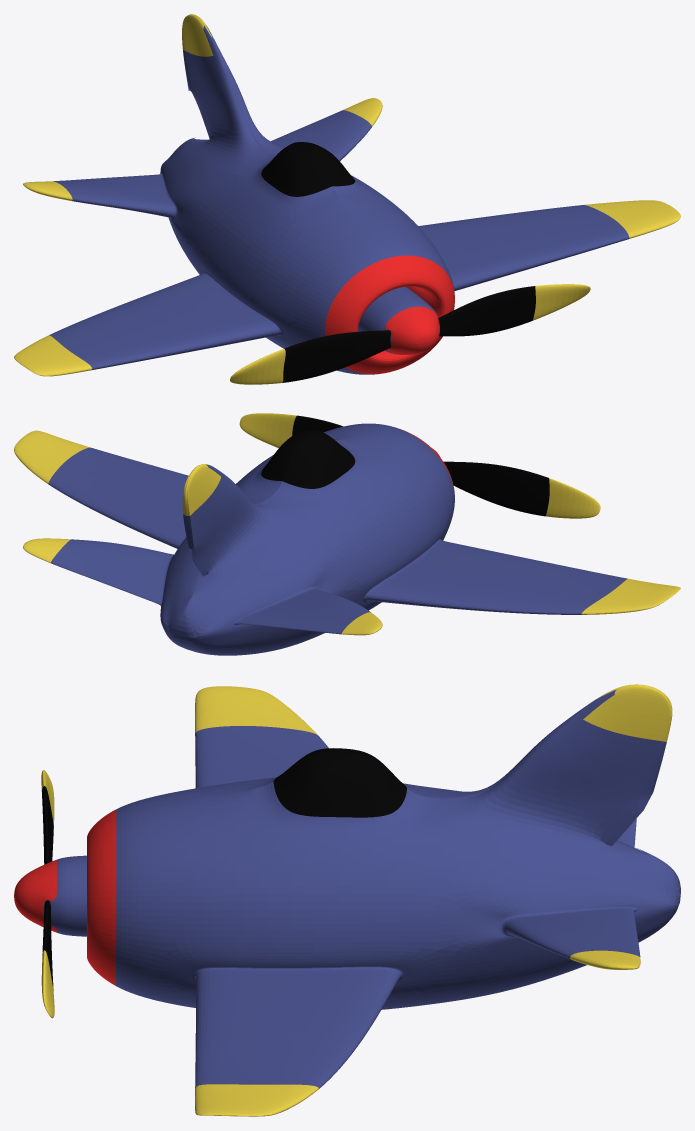
The picture shows the model from 3 angles, top to bottom: view 1: azimuth 30°, elevation 25°; view 2: azimuth 150°, elevation 25°; view 3: azimuth 270°, elevation 25°; orthographic projection. The views are drawn at different scales.
Parts seen in each view (by area): view 1: Cylinder, Cylinder.001; view 2: Cylinder, Cylinder.001; view 3: Cylinder, Cylinder.001.
Part boxes in pixels (left/top/right/bottom): Cylinder: left=14, top=14, right=680, bottom=376; Cylinder.001: left=230, top=284, right=590, bottom=384; Cylinder: left=14, top=423, right=680, bottom=655; Cylinder.001: left=239, top=413, right=600, bottom=518; Cylinder: left=87, top=684, right=680, bottom=1116; Cylinder.001: left=14, top=770, right=86, bottom=1018.
Bounding box in the file's own units: 677 × 232 × 445.
